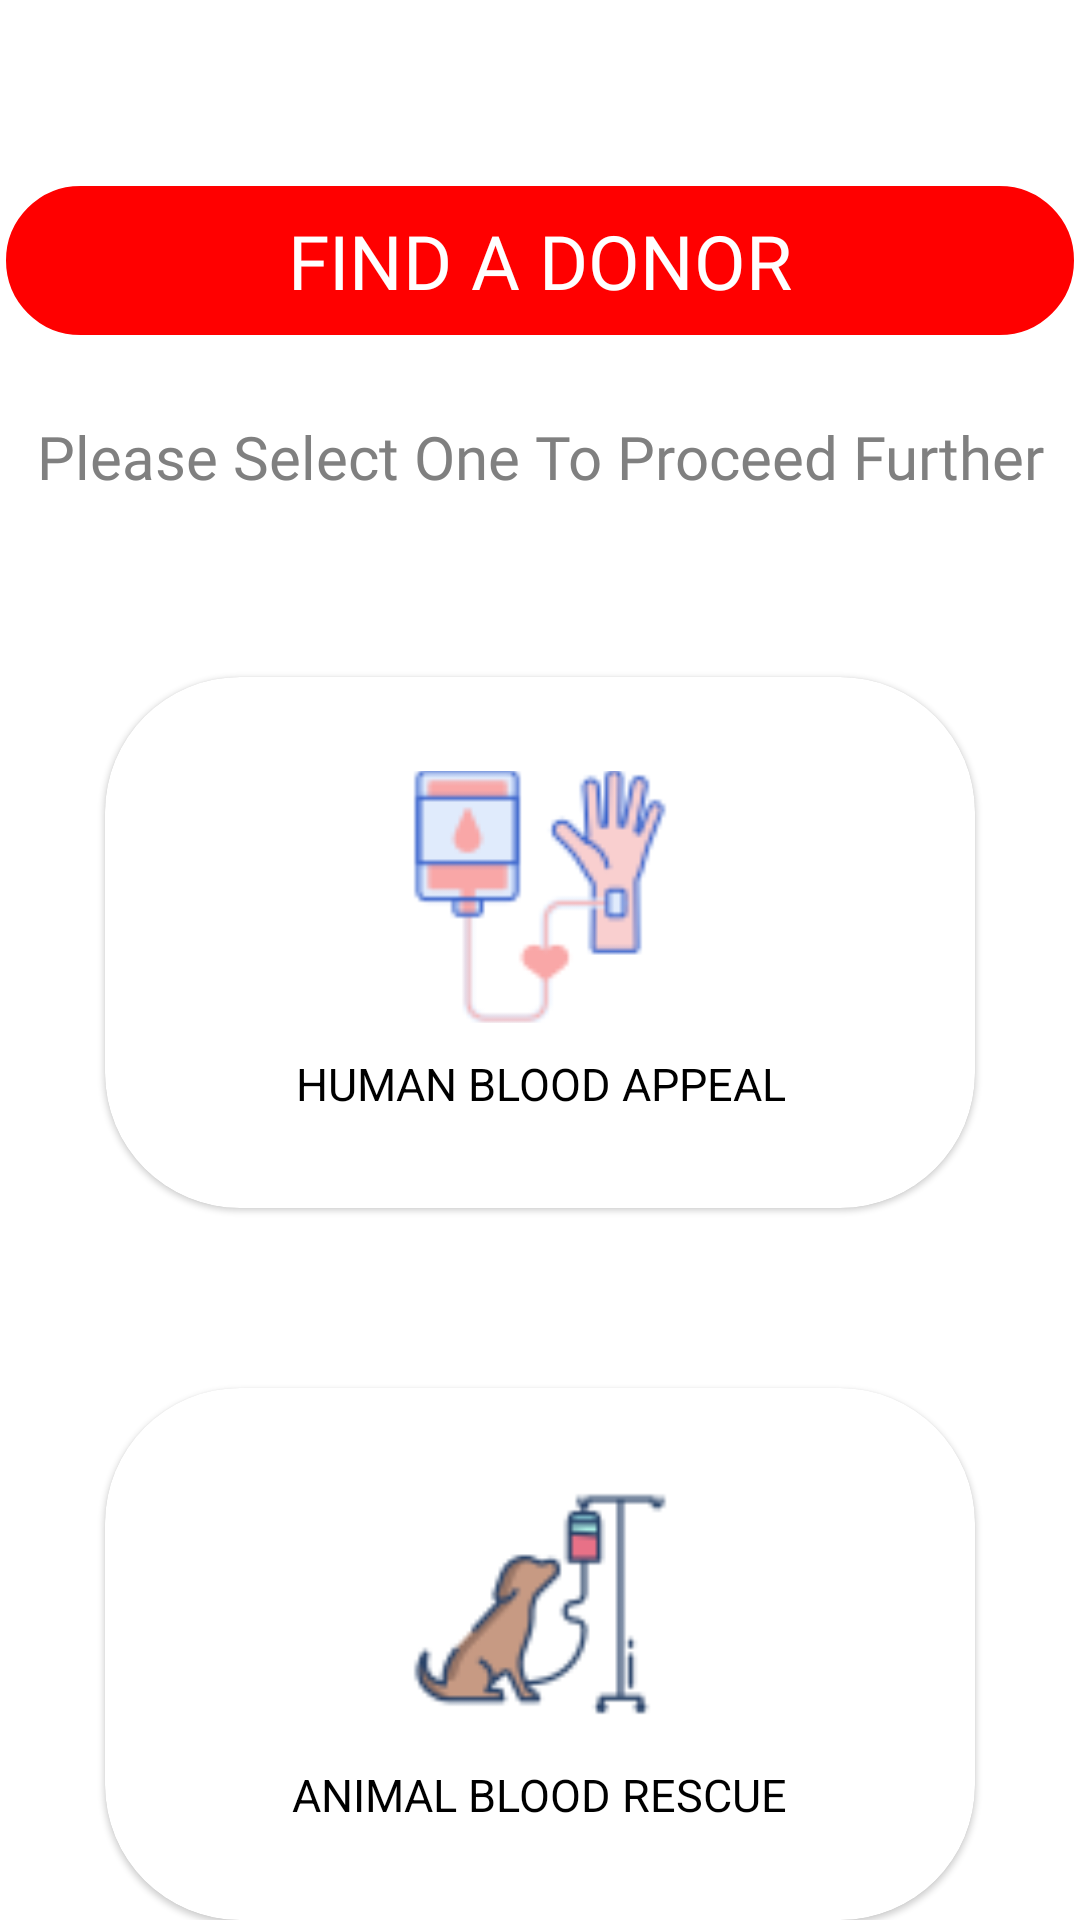

Where to tap for icons on this 1080 × 1920 app screen, as (x=x, y=y):
animal request: (x=540, y=1604)
human request: (x=540, y=896)
